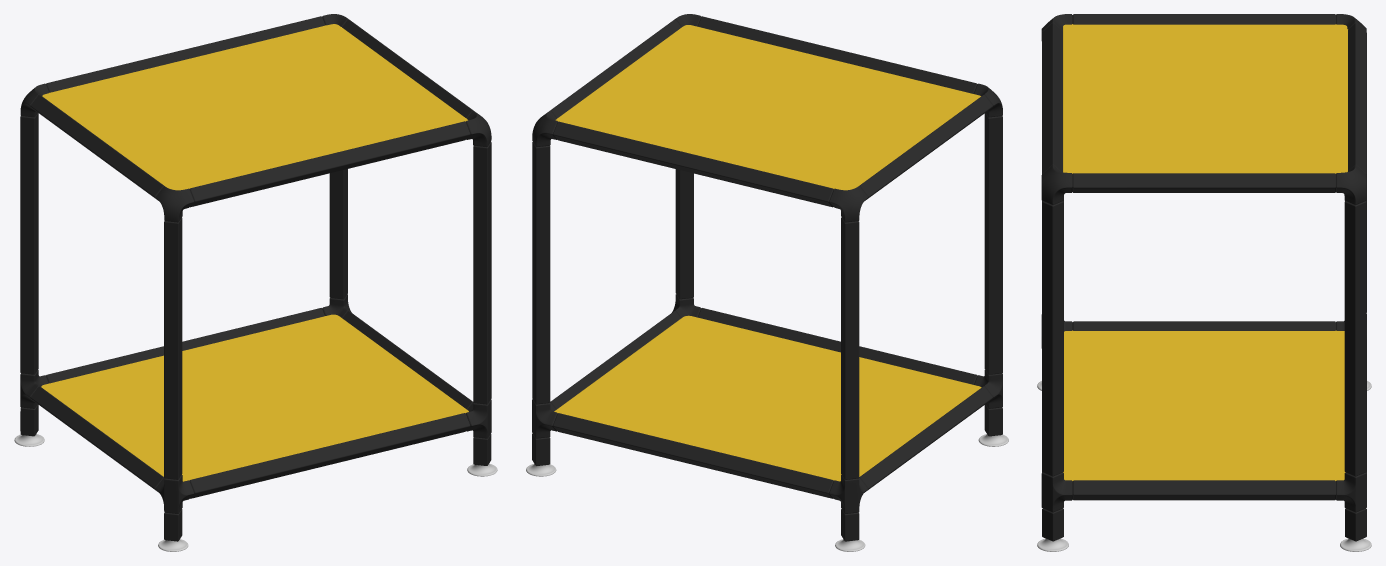
3 renders of one model, left to right at view 1: azimuth 30°, elevation 25°; view 2: azimuth 150°, elevation 25°; view 3: azimuth 270°, elevation 25°, orthographic. The views are drawn at different scales.
Visible parts, largest first — view 1: 420x329x374; view 2: 420x329x374; view 3: 420x329x374.
Boxes of the visible parts, x1,y1,x2,y2 form: 420x329x374: [14, 14, 497, 551]; 420x329x374: [526, 14, 1008, 551]; 420x329x374: [1037, 14, 1371, 551].
Size of the model in its own units: 0.5099 by 0.5133 by 0.4182.
